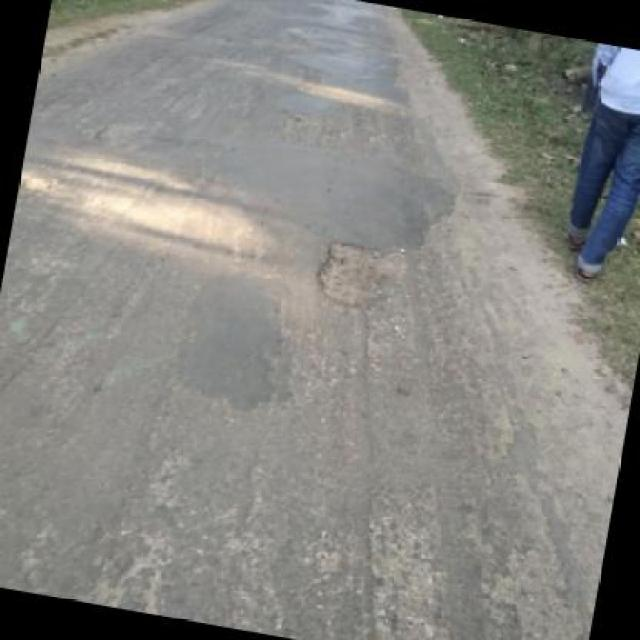pothole: (308, 233, 409, 322)
